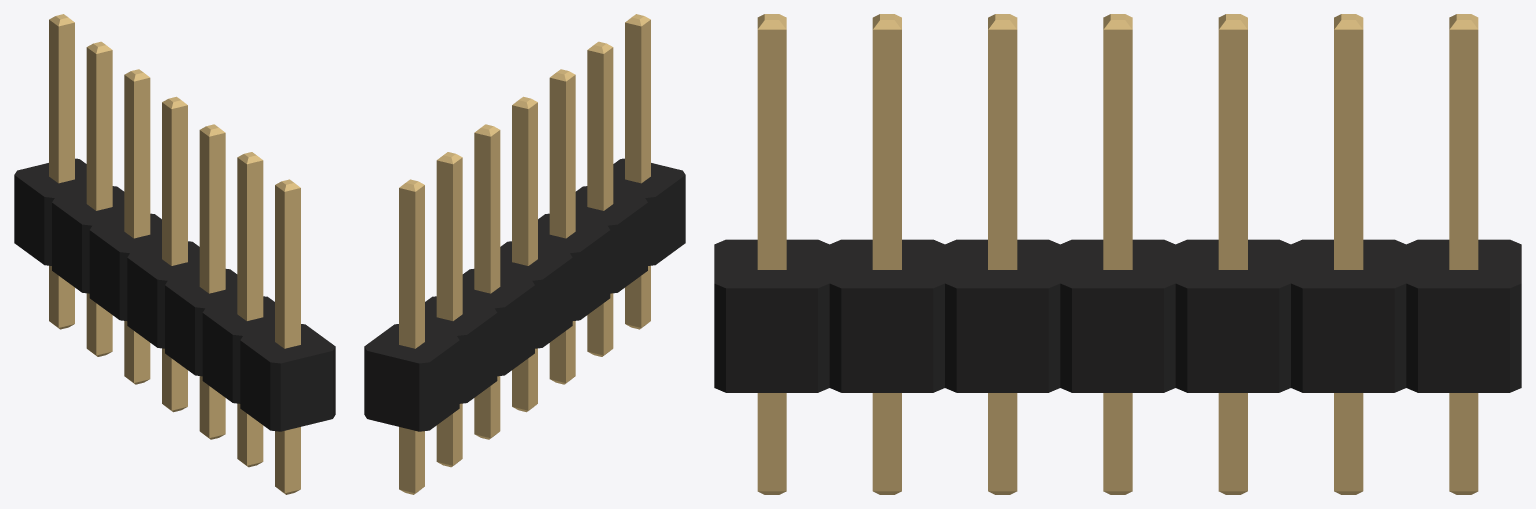
File: PinHeader_1x07_P2.54mm_Vertical.glb
The picture shows the model from 3 angles, left to right: view 1: azimuth 30°, elevation 25°; view 2: azimuth 150°, elevation 25°; view 3: azimuth 270°, elevation 25°; orthographic projection. The views are drawn at different scales.
Parts seen in each view (by area): view 1: =>[0:1:1:3]; view 2: =>[0:1:1:3]; view 3: =>[0:1:1:3].
Part boxes in pixels (x1,y1,x2,y2): =>[0:1:1:3]: (14,14,335,494); =>[0:1:1:3]: (364,14,685,494); =>[0:1:1:3]: (714,14,1521,494).
Bounding box in the file's own units: 0.00254 × 0.0115 × 0.0178.
